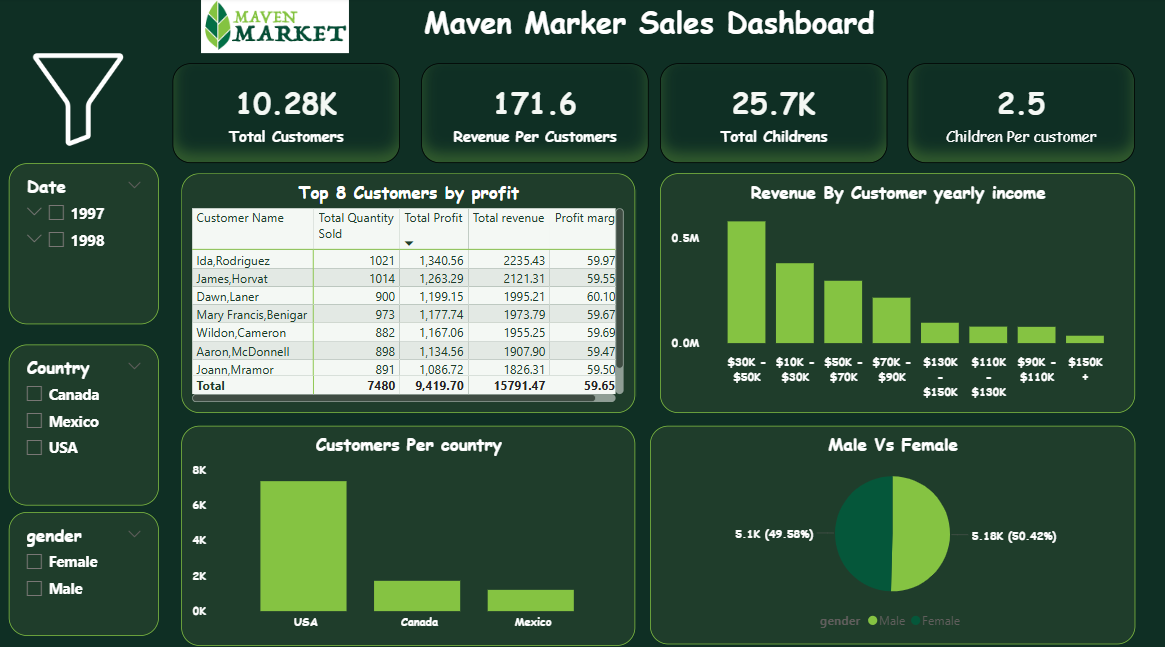

Layout of this report page (visuals, bound fields, positions):
{"tool":"powerbi","page":{"name":"Customers","canvas":[1280,720],"ordinal":2},"visuals":[{"type":"card","fields":{"Values":["Measur Table.Total Customers"]},"box":[189.4,72.7,249.7,109.8],"z":0},{"type":"card","fields":{"Values":["Measur Table.Revenue Per Customers"]},"box":[462.4,72.7,249.7,109.8],"z":1000},{"type":"card","fields":{"Values":["Measur Table.Total Childrens"]},"box":[724.5,72.7,249.7,109.8],"z":2000},{"type":"card","fields":{"Values":["Measur Table.Children Per customer"]},"box":[996.2,72.7,249.7,109.8],"z":3000},{"type":"textbox","box":[164.7,0,1096.4,72.7],"z":4000},{"type":"image","box":[183.9,0,236,61.7],"z":5000},{"type":"pivotTable","title":"Top 8 Customers by profit","fields":{"Values":["Measur Table.Total Quantity Sold","Measur Table.Total Profit","Measur Table.Total revenue","Measur Table.Profit margin"],"Rows":["MavenMarket_Customers.Customer Name"]},"box":[199,193.5,498.1,263.5],"z":6000},{"type":"columnChart","title":"Customers Per country","fields":{"Y":["Measur Table.Total Customers"],"Category":["MavenMarket_Customers.customer_country"]},"box":[199,470.7,498.1,241.5],"z":7000},{"type":"pieChart","title":"Male Vs Female","fields":{"Category":["MavenMarket_Customers.gender"],"Y":["CountNonNull(MavenMarket_Customers.gender)"]},"box":[713.6,470.7,532.4,240.1],"z":8000},{"type":"slicer","fields":{"Values":["MavenMarket_Calendar.date.Variation.Date Hierarchy.Year","MavenMarket_Calendar.date.Variation.Date Hierarchy.Quarter","MavenMarket_Calendar.date.Variation.Date Hierarchy.Month","MavenMarket_Calendar.date.Variation.Date Hierarchy.Day"]},"box":[9.6,182.5,164.7,177],"z":9000},{"type":"slicer","fields":{"Values":["MavenMarket_Stores.store_country"]},"box":[9.6,381.5,164.7,177],"z":10000},{"type":"image","box":[9.6,61.7,155.1,101.5],"z":11000},{"type":"slicer","fields":{"Values":["MavenMarket_Customers.gender"]},"box":[9.6,565.4,164.7,135.8],"z":12000},{"type":"columnChart","title":"Revenue By Customer  yearly income","fields":{"Y":["Measur Table.Total revenue"],"Category":["MavenMarket_Customers.yearly_income"]},"box":[724.5,193.5,521.4,263.5],"z":13000}]}

Visuals, with their boxes in screenshot pixels (x1, y1, x2, y2), scaled from the page's 1280x720 canvas onto the 1165x647 screenshot:
card - Measur Table.Total Customers: detection(172, 65, 400, 164)
card - Measur Table.Revenue Per Customers: detection(421, 65, 648, 164)
card - Measur Table.Total Childrens: detection(659, 65, 887, 164)
card - Measur Table.Children Per customer: detection(907, 65, 1134, 164)
textbox: detection(150, 0, 1148, 65)
image: detection(167, 0, 382, 55)
"Top 8 Customers by profit" pivotTable: detection(181, 174, 634, 411)
"Customers Per country" columnChart: detection(181, 423, 634, 640)
"Male Vs Female" pieChart: detection(649, 423, 1134, 639)
slicer - MavenMarket_Calendar.date.Variation.Date Hierarchy.Year x MavenMarket_Calendar.date.Variation.Date Hierarchy.Quarter: detection(9, 164, 159, 323)
slicer - MavenMarket_Stores.store_country: detection(9, 343, 159, 502)
image: detection(9, 55, 150, 147)
slicer - MavenMarket_Customers.gender: detection(9, 508, 159, 630)
"Revenue By Customer  yearly income" columnChart: detection(659, 174, 1134, 411)
